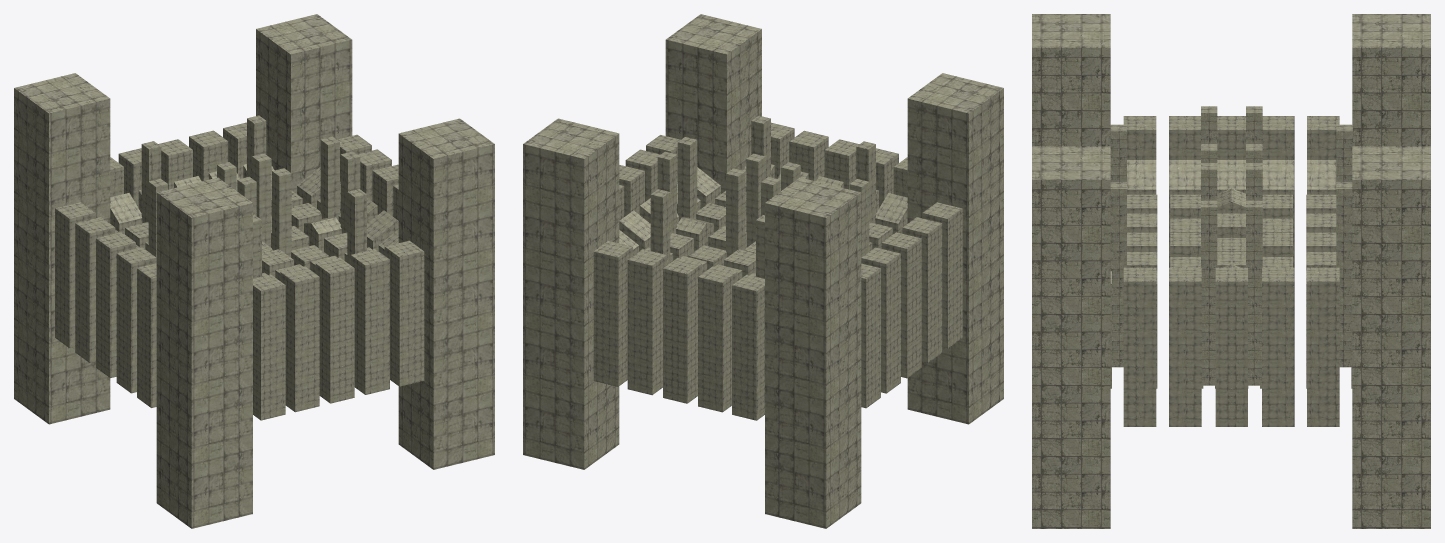
The model's file is SM_LDFest_04.fbx.
3 views of the same model, side by side, from view 1: azimuth 30°, elevation 25°; view 2: azimuth 150°, elevation 25°; view 3: azimuth 270°, elevation 25° (orthographic). The views are drawn at different scales.
Parts seen in each view (by area): view 1: SM_LDFest_04; view 2: SM_LDFest_04; view 3: SM_LDFest_04.
Part boxes in pixels (x1=…): SM_LDFest_04: x1=14, y1=14, x2=494, y2=528; SM_LDFest_04: x1=523, y1=14, x2=1003, y2=528; SM_LDFest_04: x1=1032, y1=14, x2=1430, y2=528.
Bounding box in the file's own units: 6618 × 6488 × 6717.
